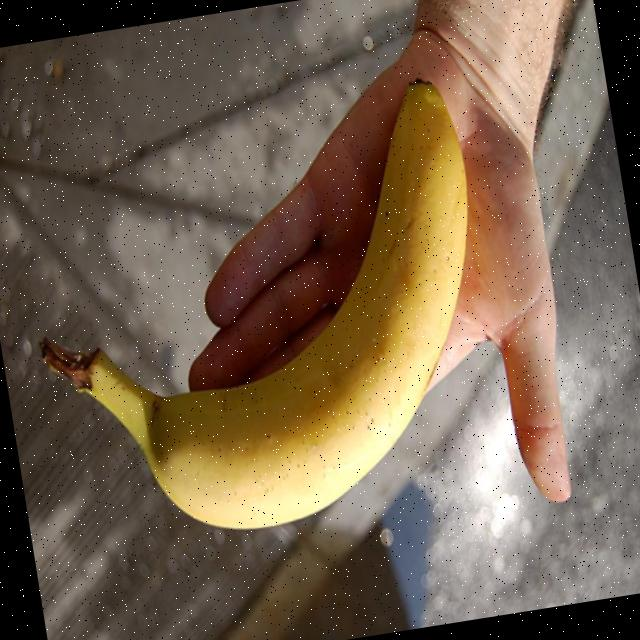banana: (84, 76, 468, 528)
